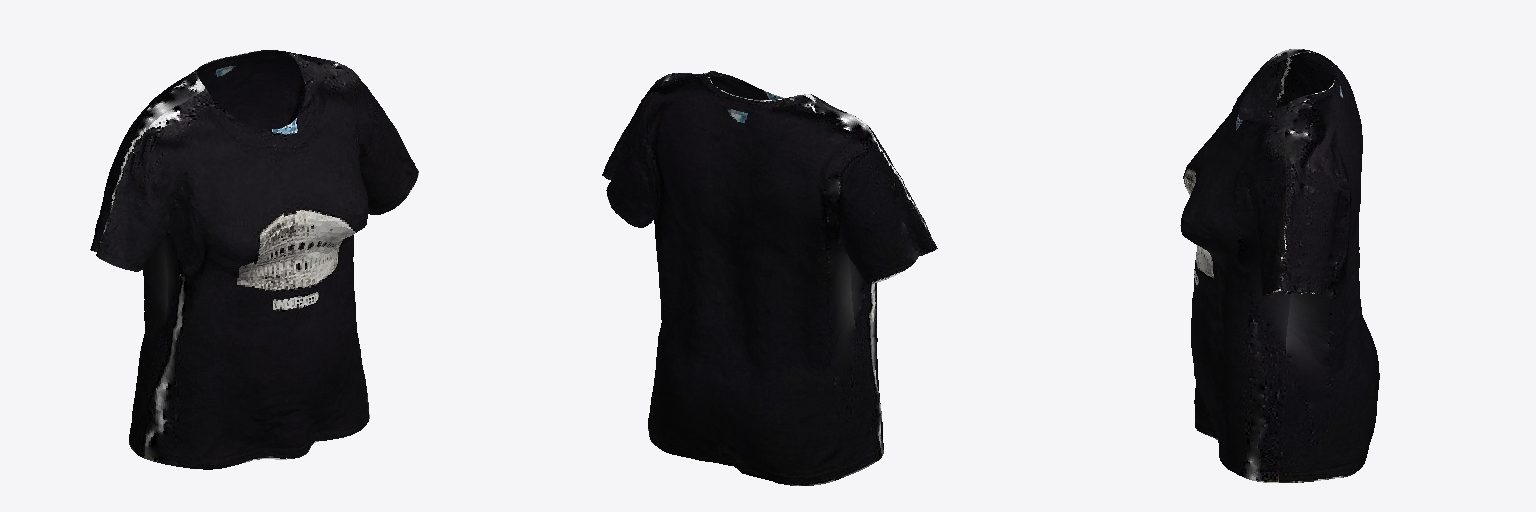
3 views of the same model, side by side, from view 1: azimuth 30°, elevation 25°; view 2: azimuth 150°, elevation 25°; view 3: azimuth 270°, elevation 25° (orthographic).
Parts seen in each view (by area): view 1: obj_00000.002; view 2: obj_00000.002; view 3: obj_00000.002.
Boxes of the visible parts, <box> form: obj_00000.002: <box>90,50,418,469</box>; obj_00000.002: <box>602,71,937,485</box>; obj_00000.002: <box>1180,49,1379,482</box>.
Size of the model in its own units: 0.5937 by 0.634 by 0.3134.
1 materials, 1 textured.